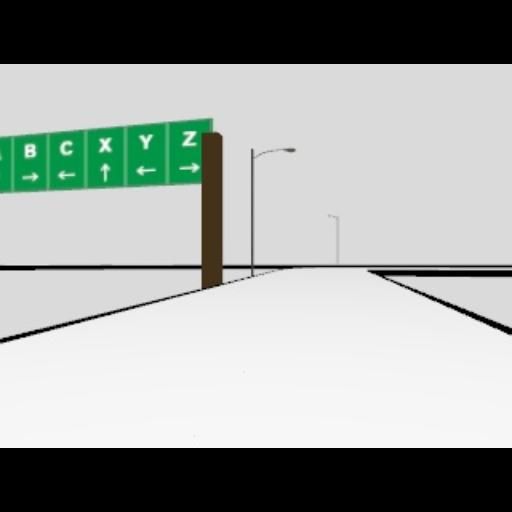B: (24, 142, 36, 158)
C: (60, 139, 72, 155)
Left: (135, 164, 157, 176), (56, 169, 76, 179)
Right: (178, 162, 200, 172), (21, 171, 39, 181)
Straight: (100, 162, 110, 182)
X: (98, 136, 112, 152)
Y: (138, 133, 154, 149)
Z: (181, 130, 197, 146)
